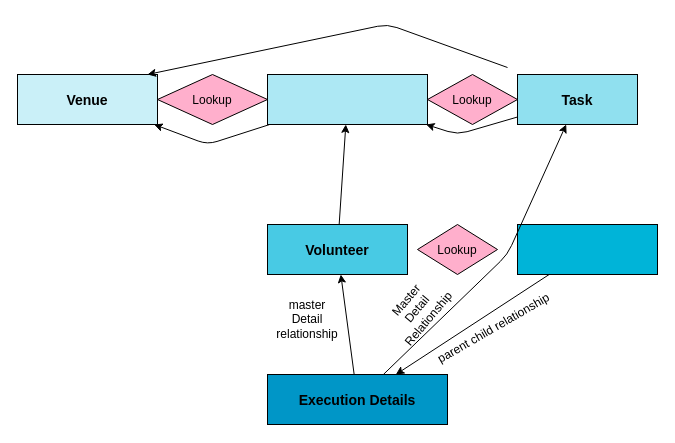
This 675x443 diagram has some shape labels left out. Each missing label, with the box of its shape:
Drop-Off Point: (266, 74, 428, 124)
Execution: (516, 224, 658, 274)
